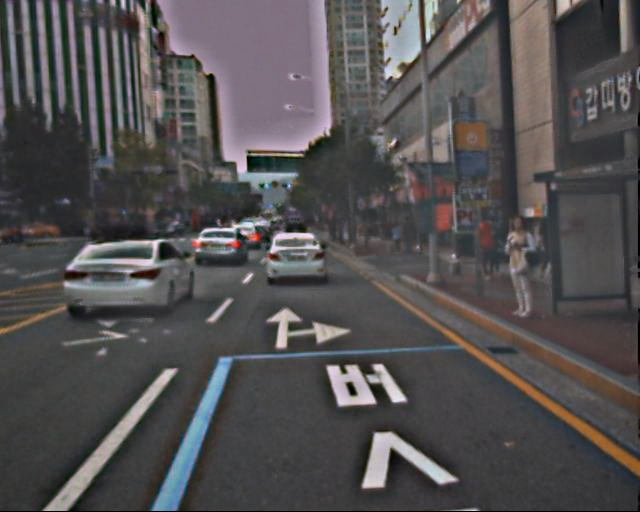person: (497, 213, 540, 318), (470, 214, 497, 281), (400, 215, 416, 255), (390, 221, 404, 254)
